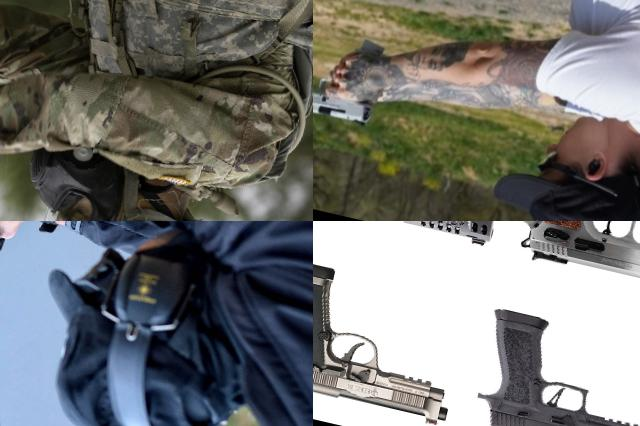handgun: (313, 251, 476, 426), (462, 300, 640, 426), (313, 221, 520, 308), (313, 221, 416, 382), (499, 221, 640, 307), (0, 79, 78, 221), (313, 19, 389, 131), (313, 221, 424, 284), (0, 221, 56, 265)
